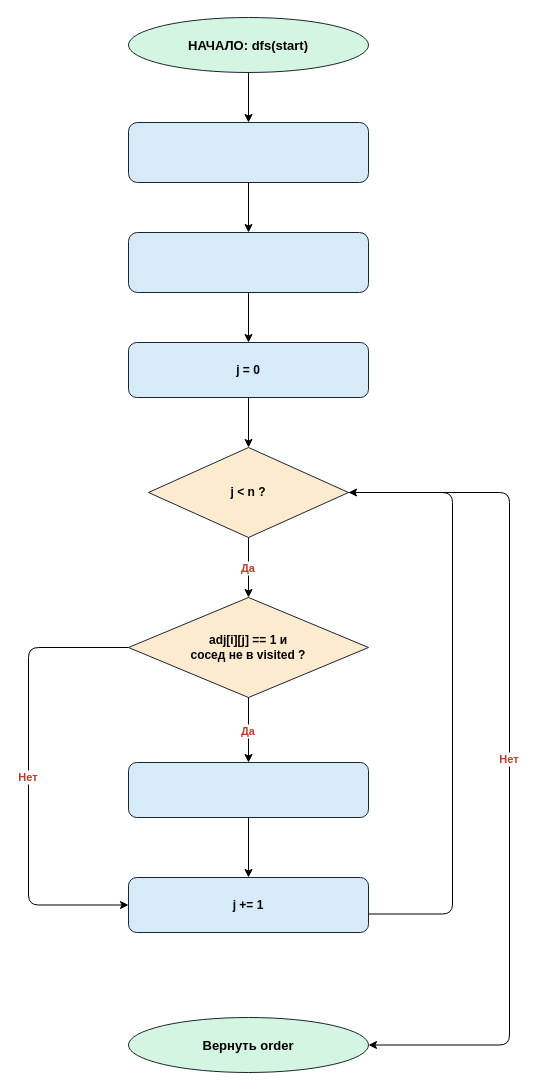
Image size: 537x1090. Some labels were removed from this diagram. The centre of each missing label's shape, as x and y in pixels:
"_dfs(сосед j) — рекурсия" goes at point 248,790.
"visited = set() order = []" goes at point 248,152.
"visited.add(v) order.append(v)" goes at point 248,262.
